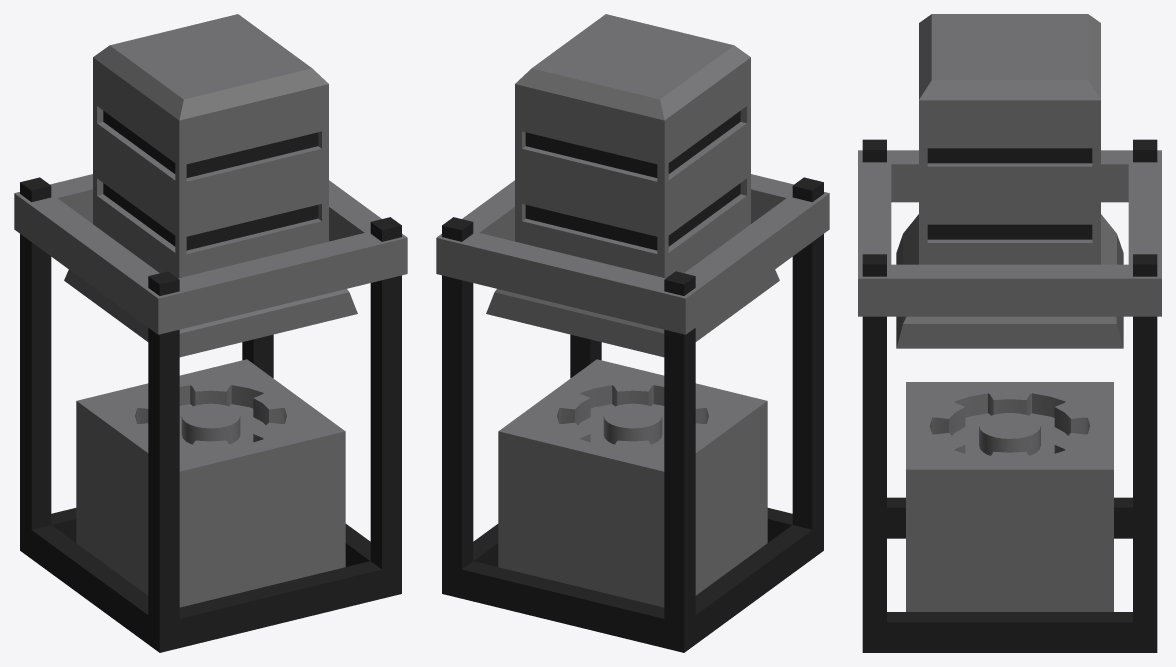
File: press.fbx
3 renders of one model, left to right at view 1: azimuth 30°, elevation 25°; view 2: azimuth 150°, elevation 25°; view 3: azimuth 270°, elevation 25°, orthographic. The views are drawn at different scales.
Visible parts, largest first — view 1: Cube.003, Cube; view 2: Cube.003, Cube; view 3: Cube.003, Cube.
Boxes of the visible parts, x1,y1,x2,y2 form: Cube.003: (14,174,407,652); Cube: (64,14,357,357); Cube.003: (436,174,829,652); Cube: (486,14,779,357); Cube.003: (858,139,1161,652); Cube: (896,14,1123,348).
Bounding box in the file's own units: 268 × 529 × 268.
